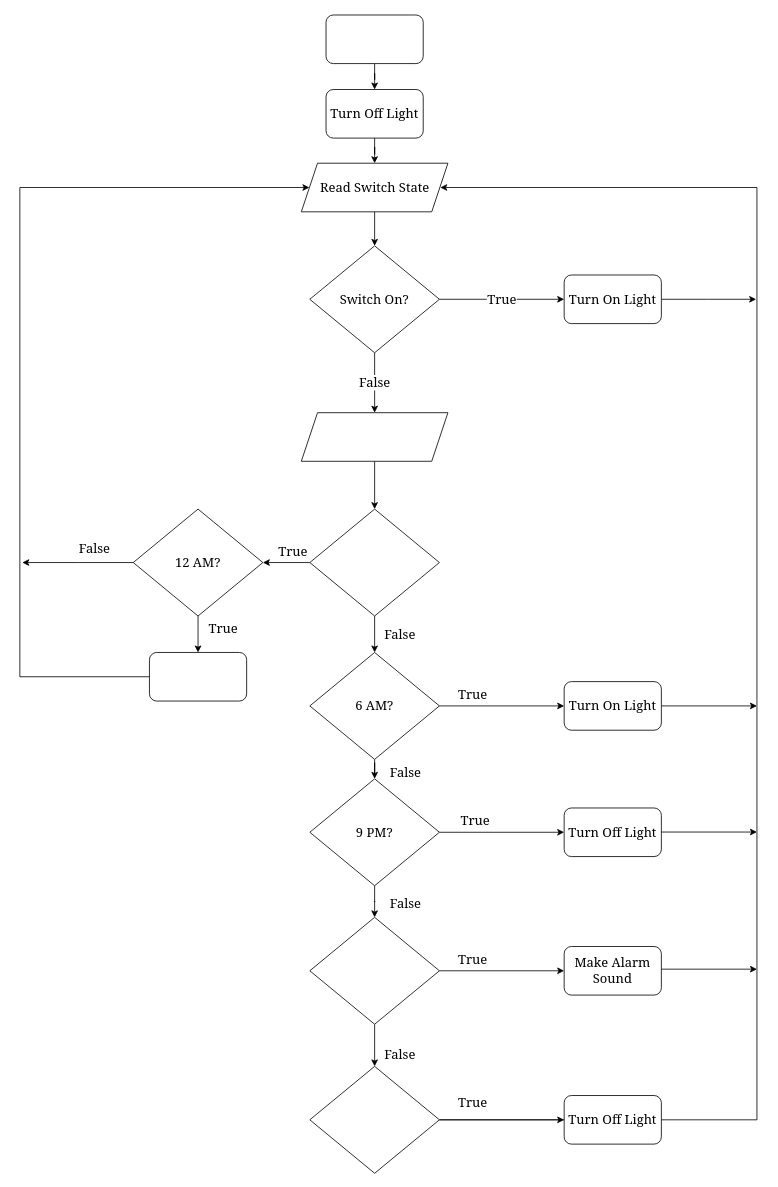
Image size: 778x1187. Some labels were removed from this diagram. Here are the shapes that lost their labels. From the top down, the centre of each, then its label:
At point 374,39: "Boot Up".
At point 374,436: "Read RTC".
At point 374,562: "WeekEnds?".
At point 198,676: "Reboot".
At point 374,970: "9 : 45 PM?".
At point 374,1119: "10 PM?".
